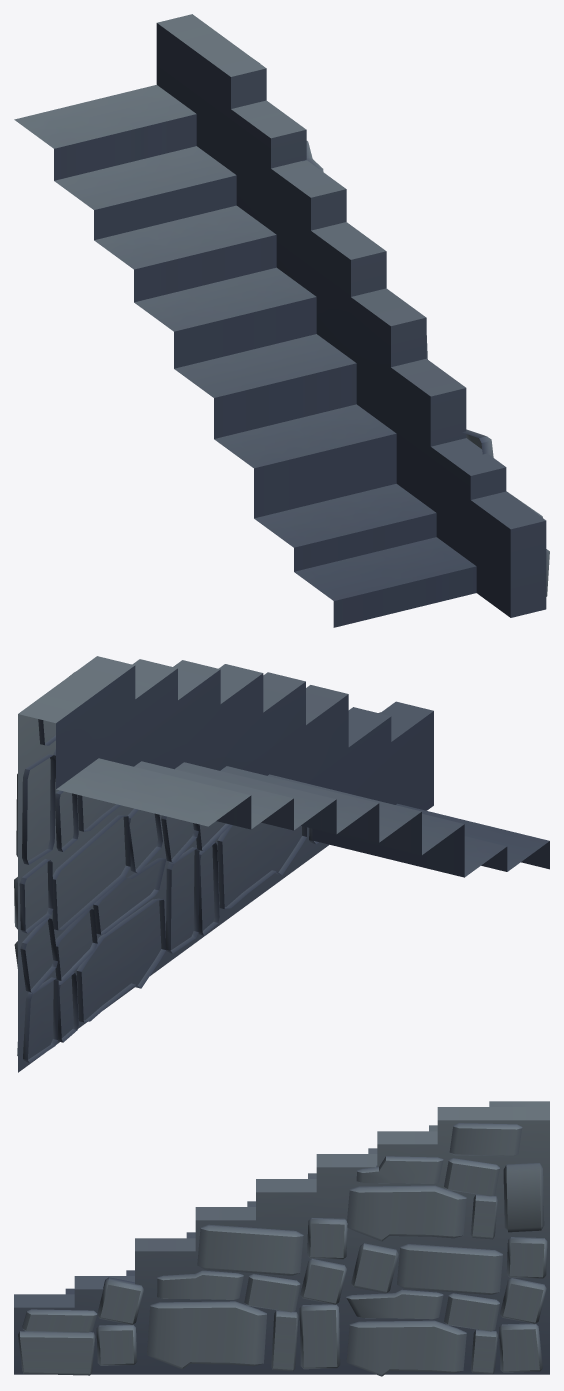
3 renders of one model, top to bottom at view 1: azimuth 30°, elevation 25°; view 2: azimuth 150°, elevation 25°; view 3: azimuth 270°, elevation 25°, orthographic. The views are drawn at different scales.
Visible parts, largest first — view 1: Cube; view 2: Cube; view 3: Cube.
Boxes of the visible parts, <box> form: Cube: <box>14,14,549,627</box>; Cube: <box>14,656,549,1072</box>; Cube: <box>14,1101,549,1376</box>.
Bounding box in the file's own units: 64.03 × 111 × 211.
